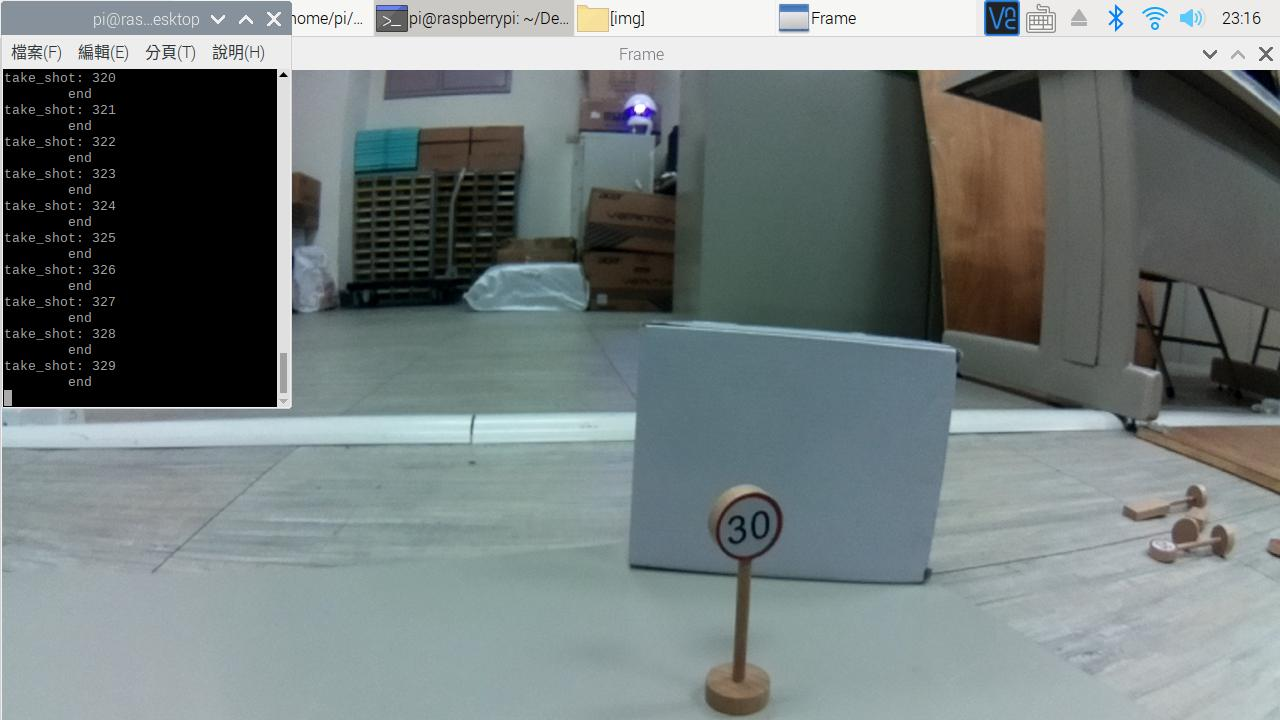Speed30: (698, 483, 799, 568)
